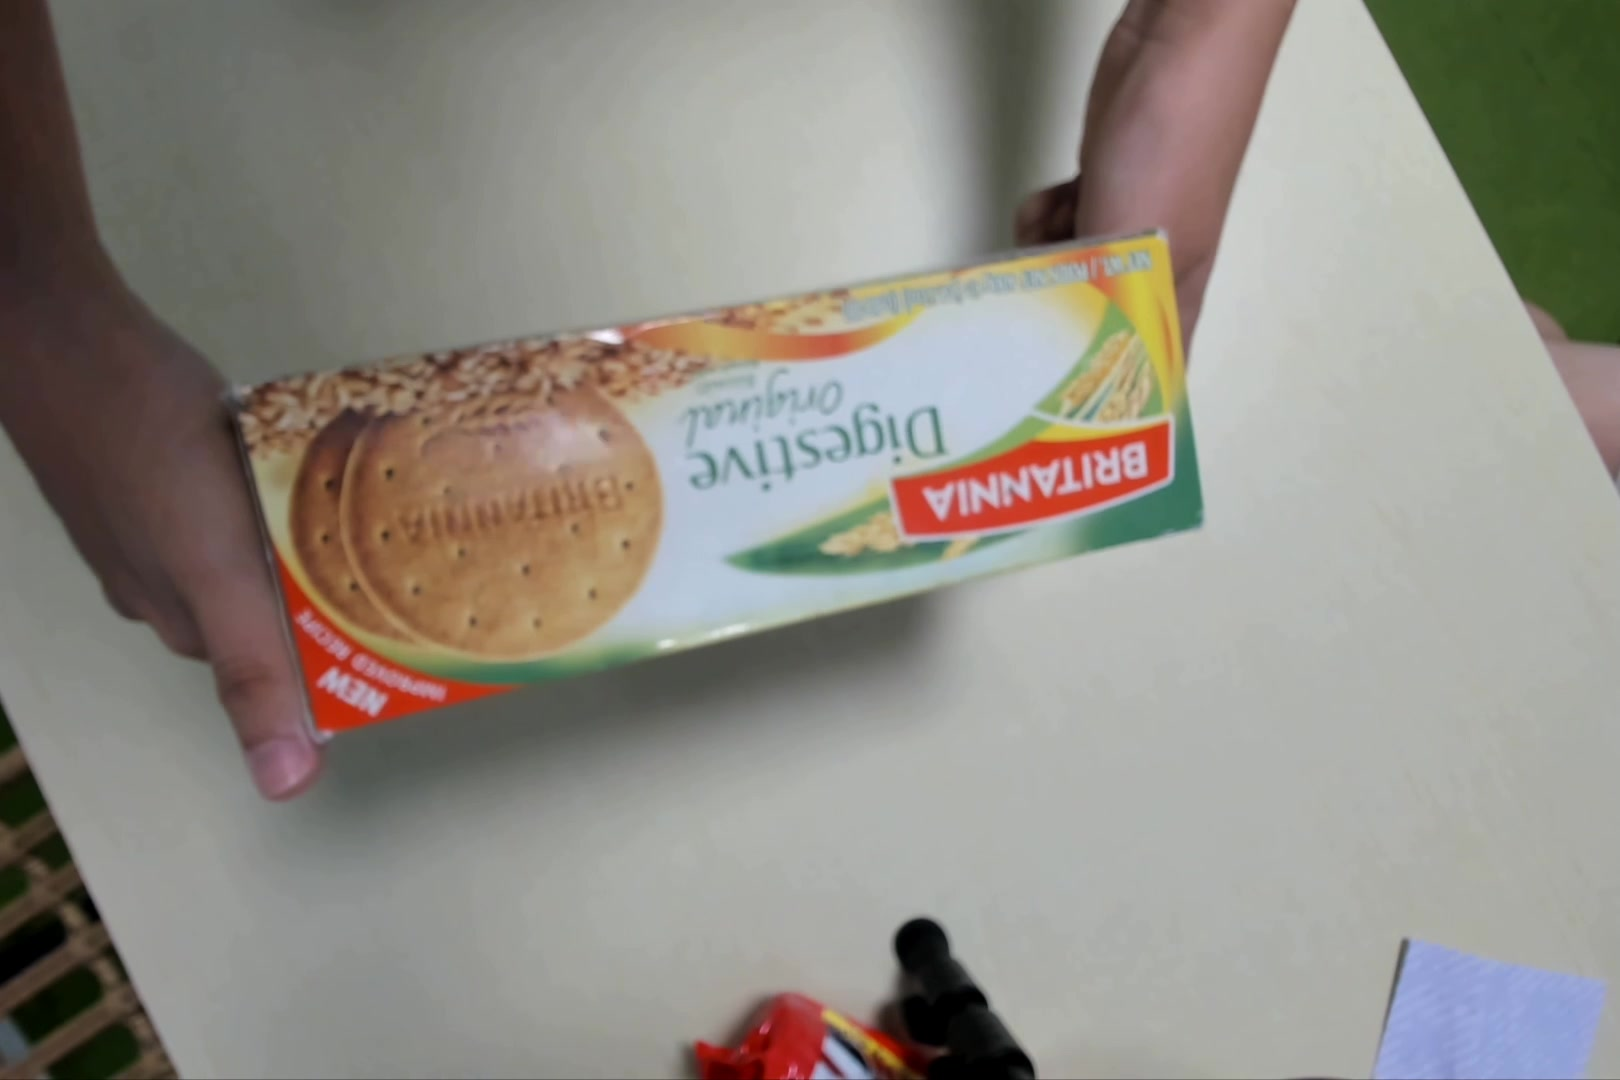BiscuitsCrackersCookies_400-499g_NonHalal_NonHealthy: (228, 222, 1203, 739)
